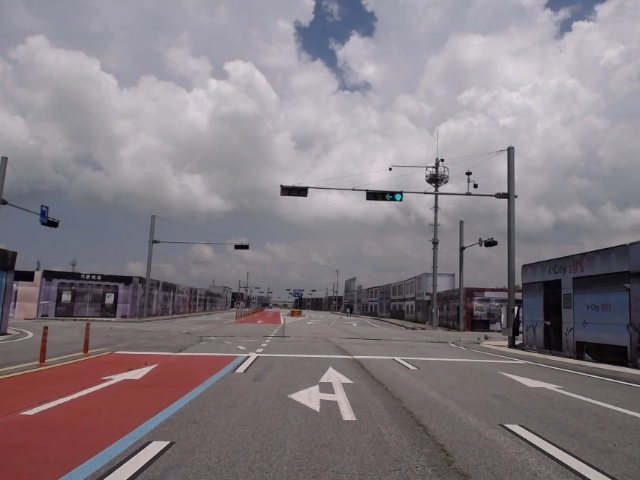all_green_4: (368, 187, 403, 202)
